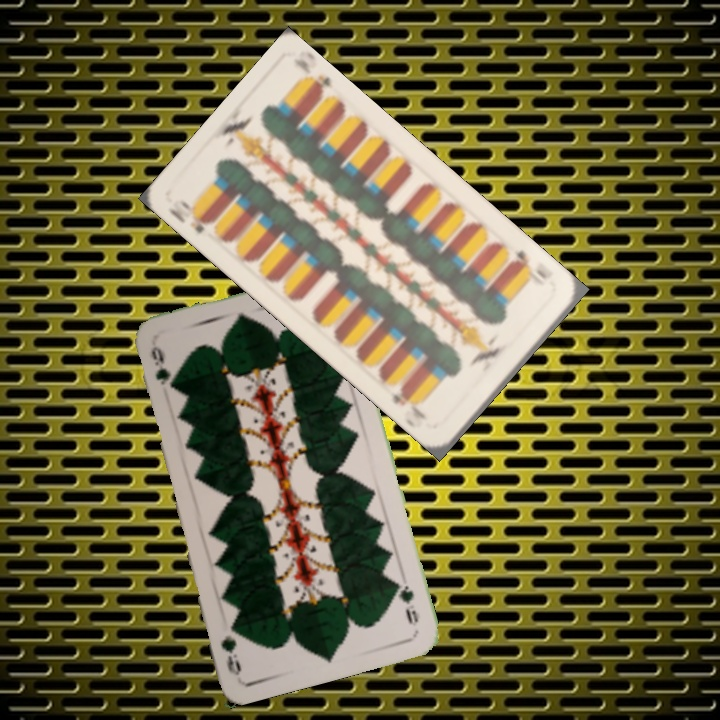E10: (163, 195, 216, 236), (507, 245, 549, 288)
G9: (390, 576, 421, 627), (147, 342, 172, 388)
